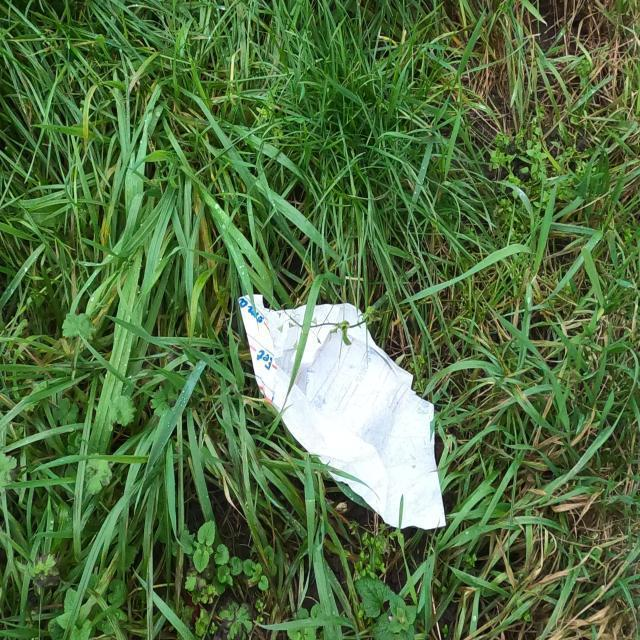Paper: (234, 286, 451, 534)
